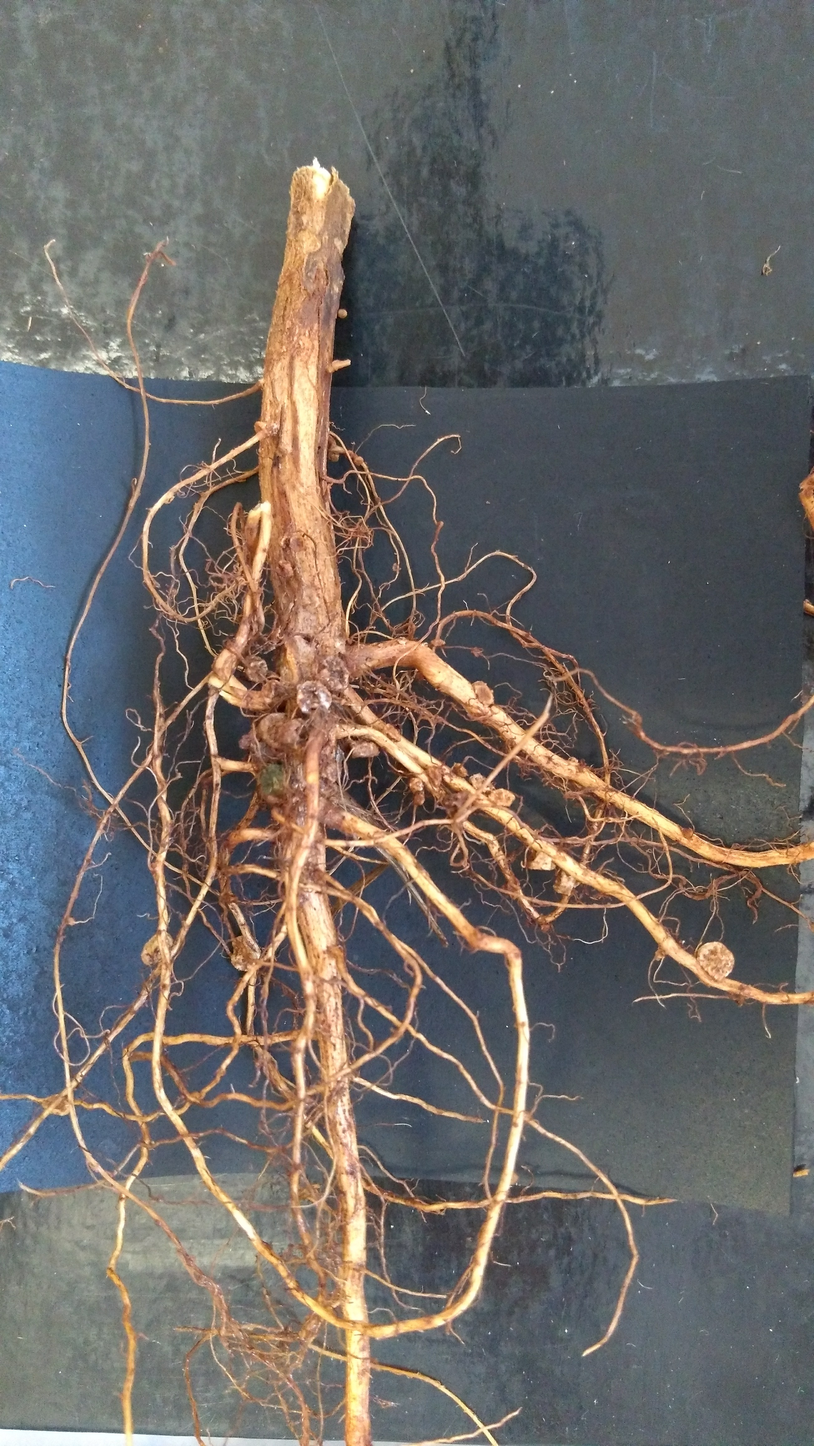nodule: (256, 712, 308, 750), (694, 940, 737, 980), (229, 934, 263, 973), (138, 931, 175, 966), (296, 680, 335, 712), (240, 729, 269, 768), (317, 657, 351, 690), (551, 868, 584, 894), (524, 846, 557, 872), (243, 654, 268, 684), (470, 677, 495, 706), (488, 785, 516, 809), (467, 772, 496, 793), (349, 740, 379, 760), (381, 721, 403, 744), (424, 765, 443, 787), (408, 776, 425, 793), (348, 450, 364, 467), (451, 762, 469, 777), (335, 307, 350, 321), (414, 790, 426, 805), (470, 644, 482, 658), (431, 637, 446, 647), (329, 453, 340, 464)
